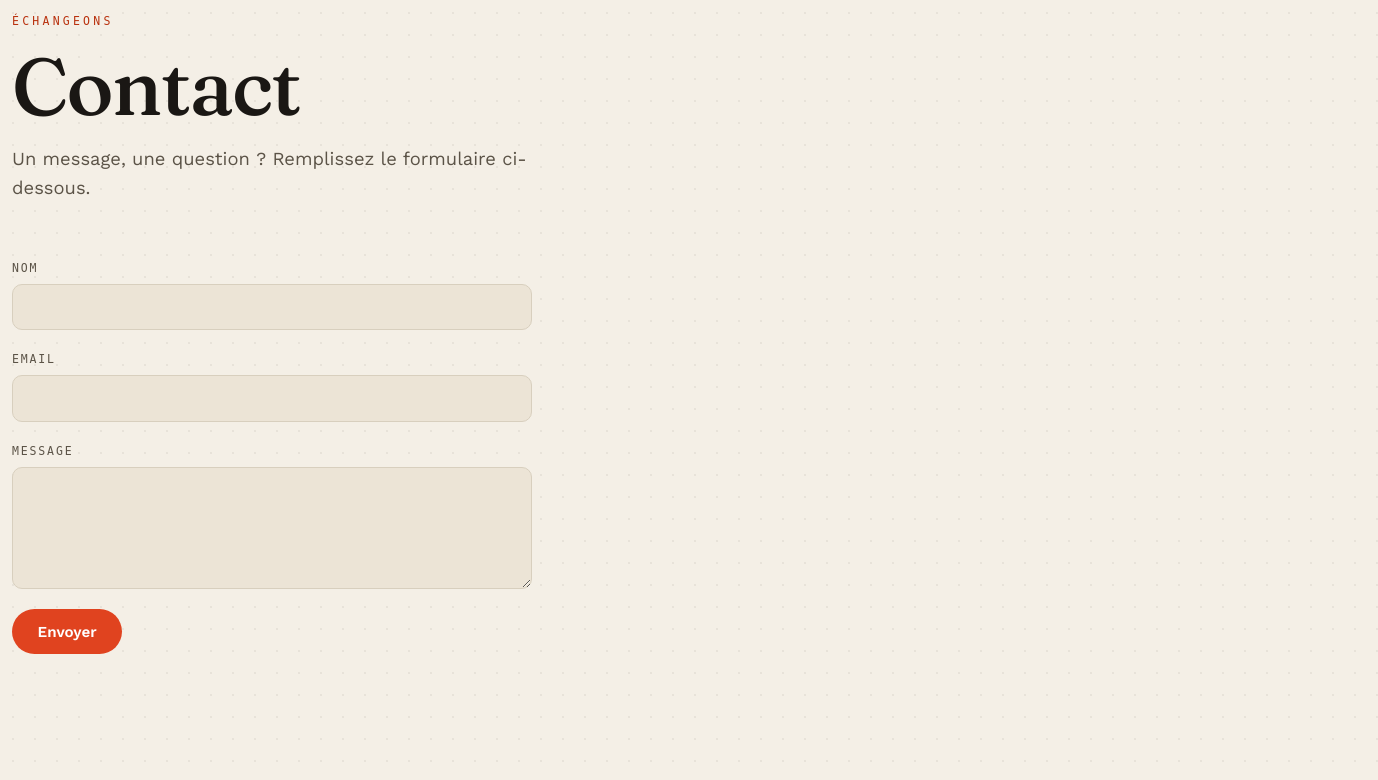
<Contact /> › affiche le message d'erreur si l'envoi échoue
In the field labelled "Nom": point(272, 307) [12,284,532,330], type "Alice"
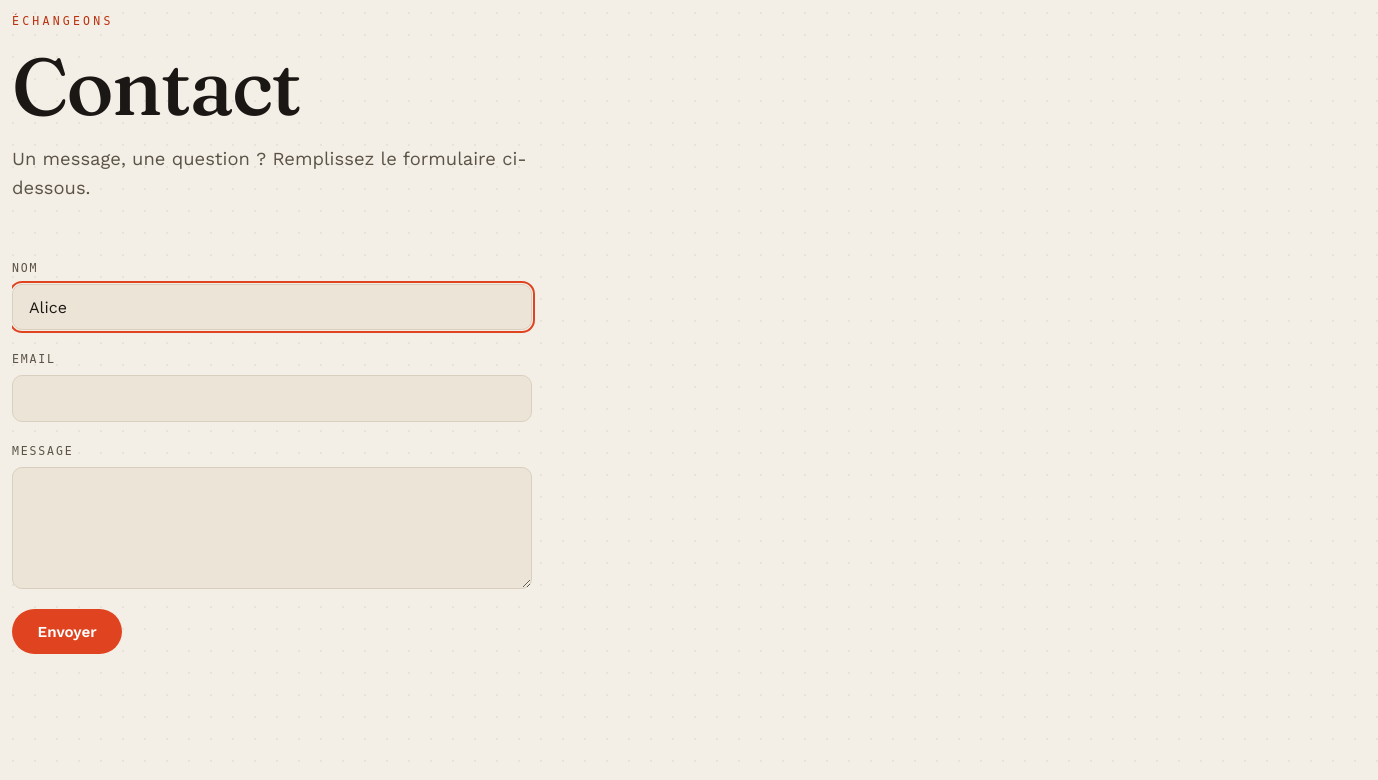
In the field labelled "Email": point(272, 398) [12,375,532,422], type "alice@exemple.fr"
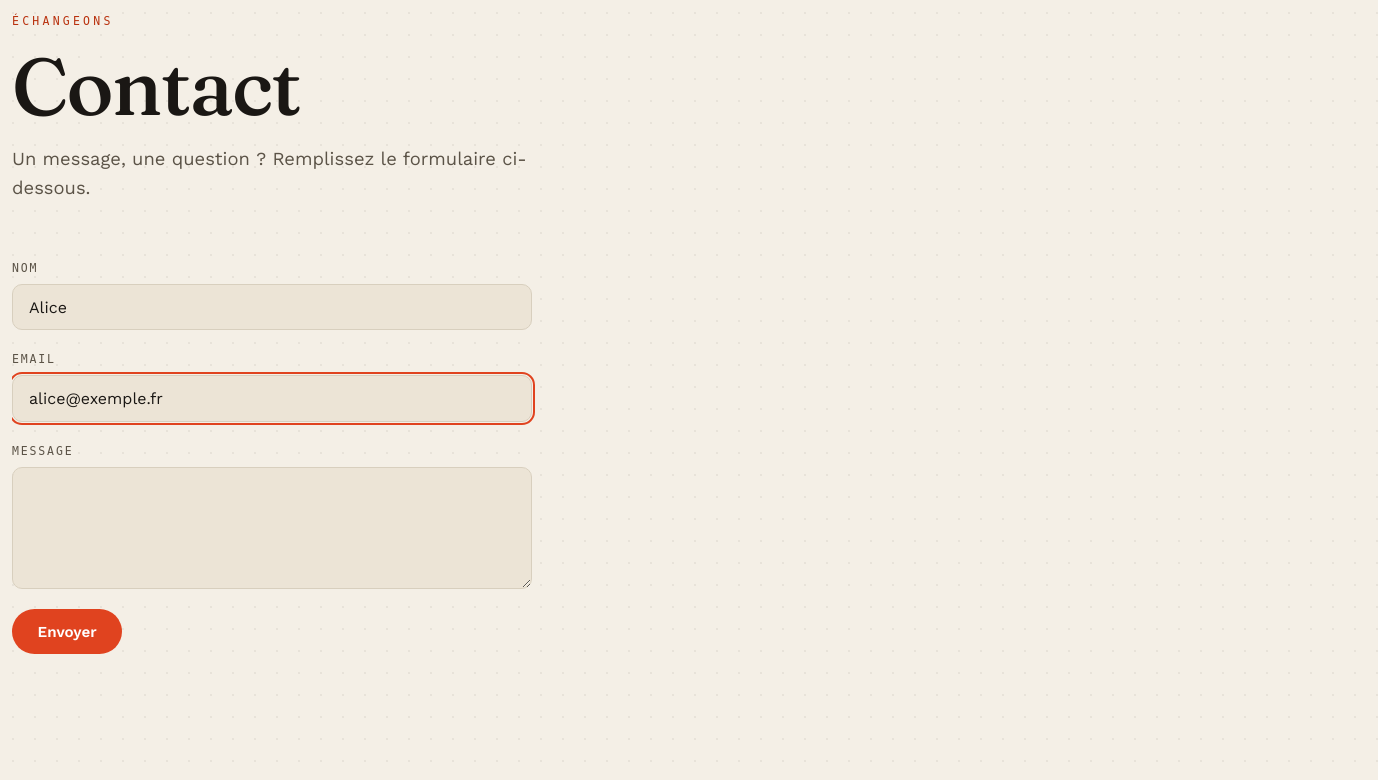
In the text box labelled "Message": point(272, 528) [12,466,532,589], type "Bonjour !"
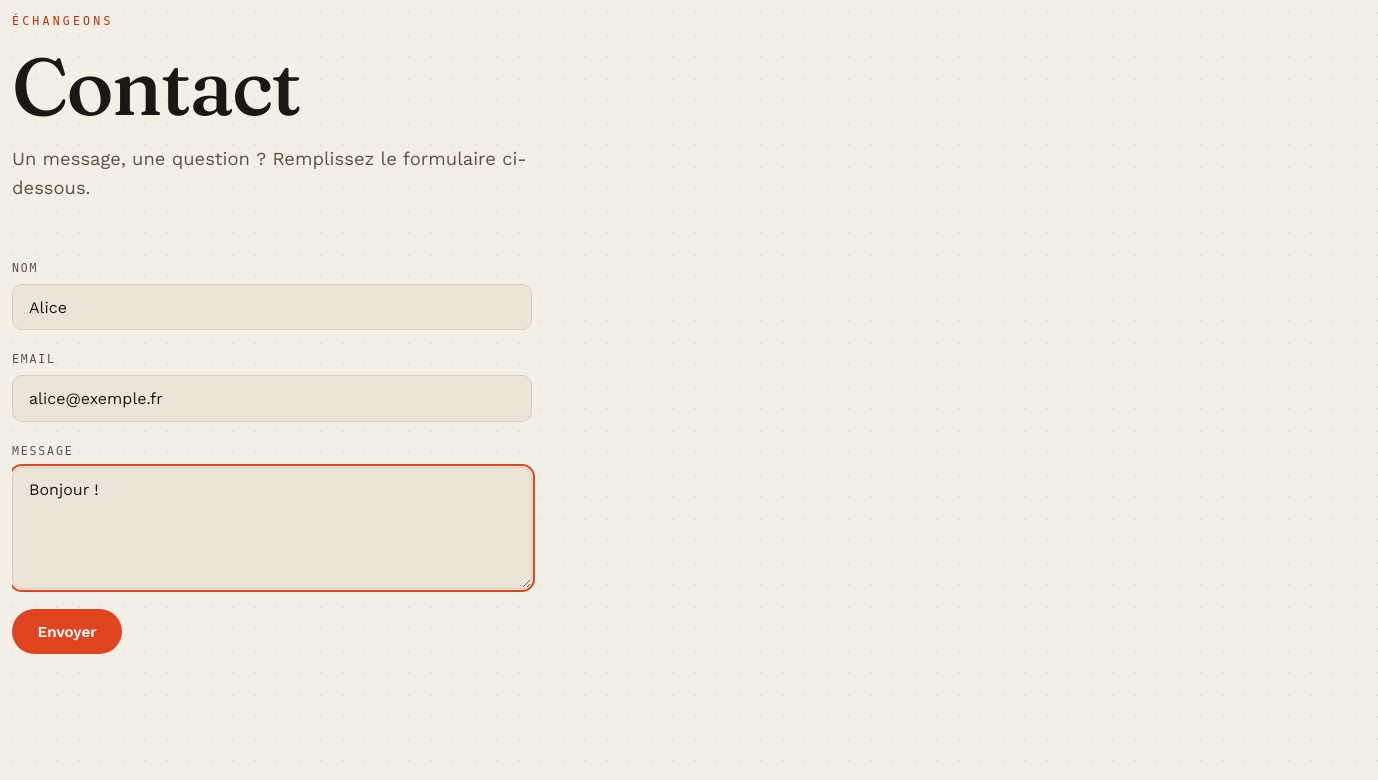
Click the button "Envoyer": point(67, 632) [12,609,122,654]
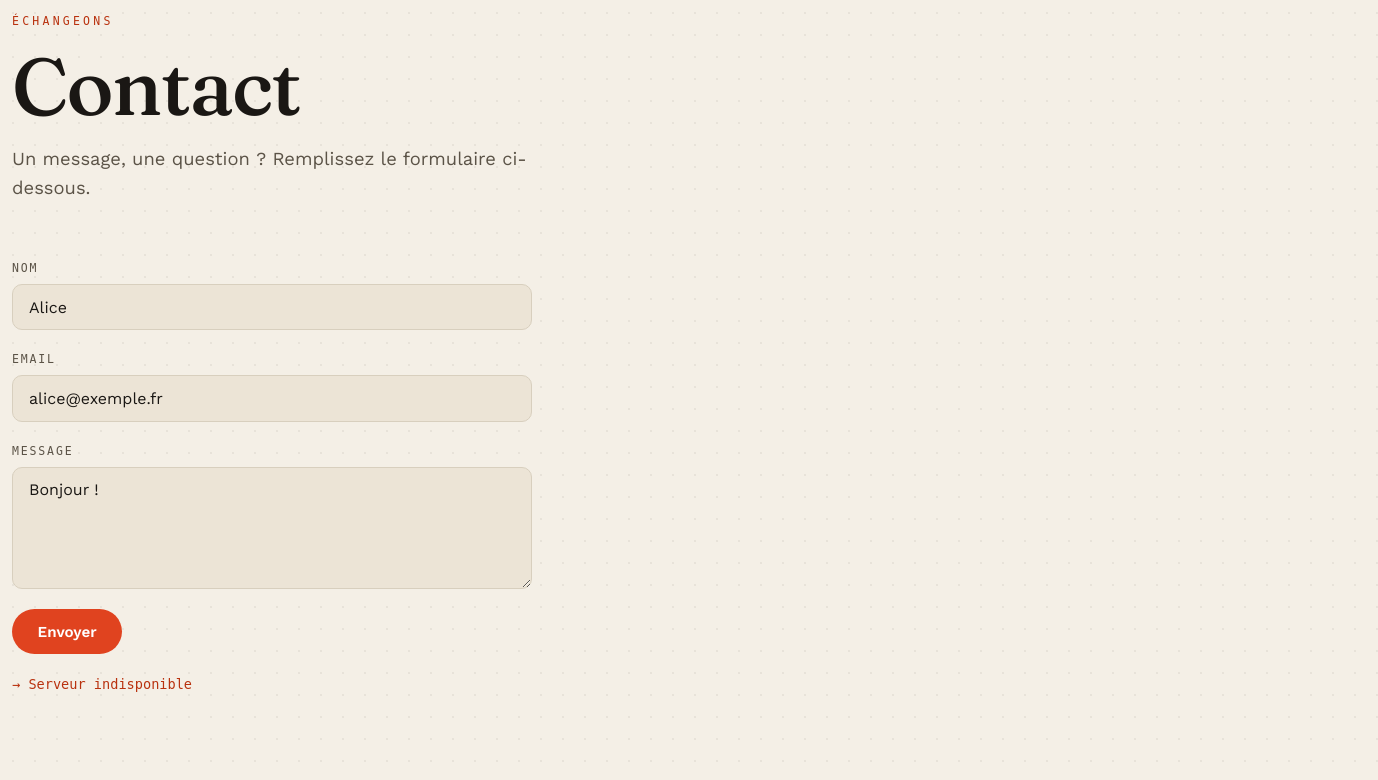
Expected: the text "→ Serveur indisponible" is shown, [12,676,192,692]
